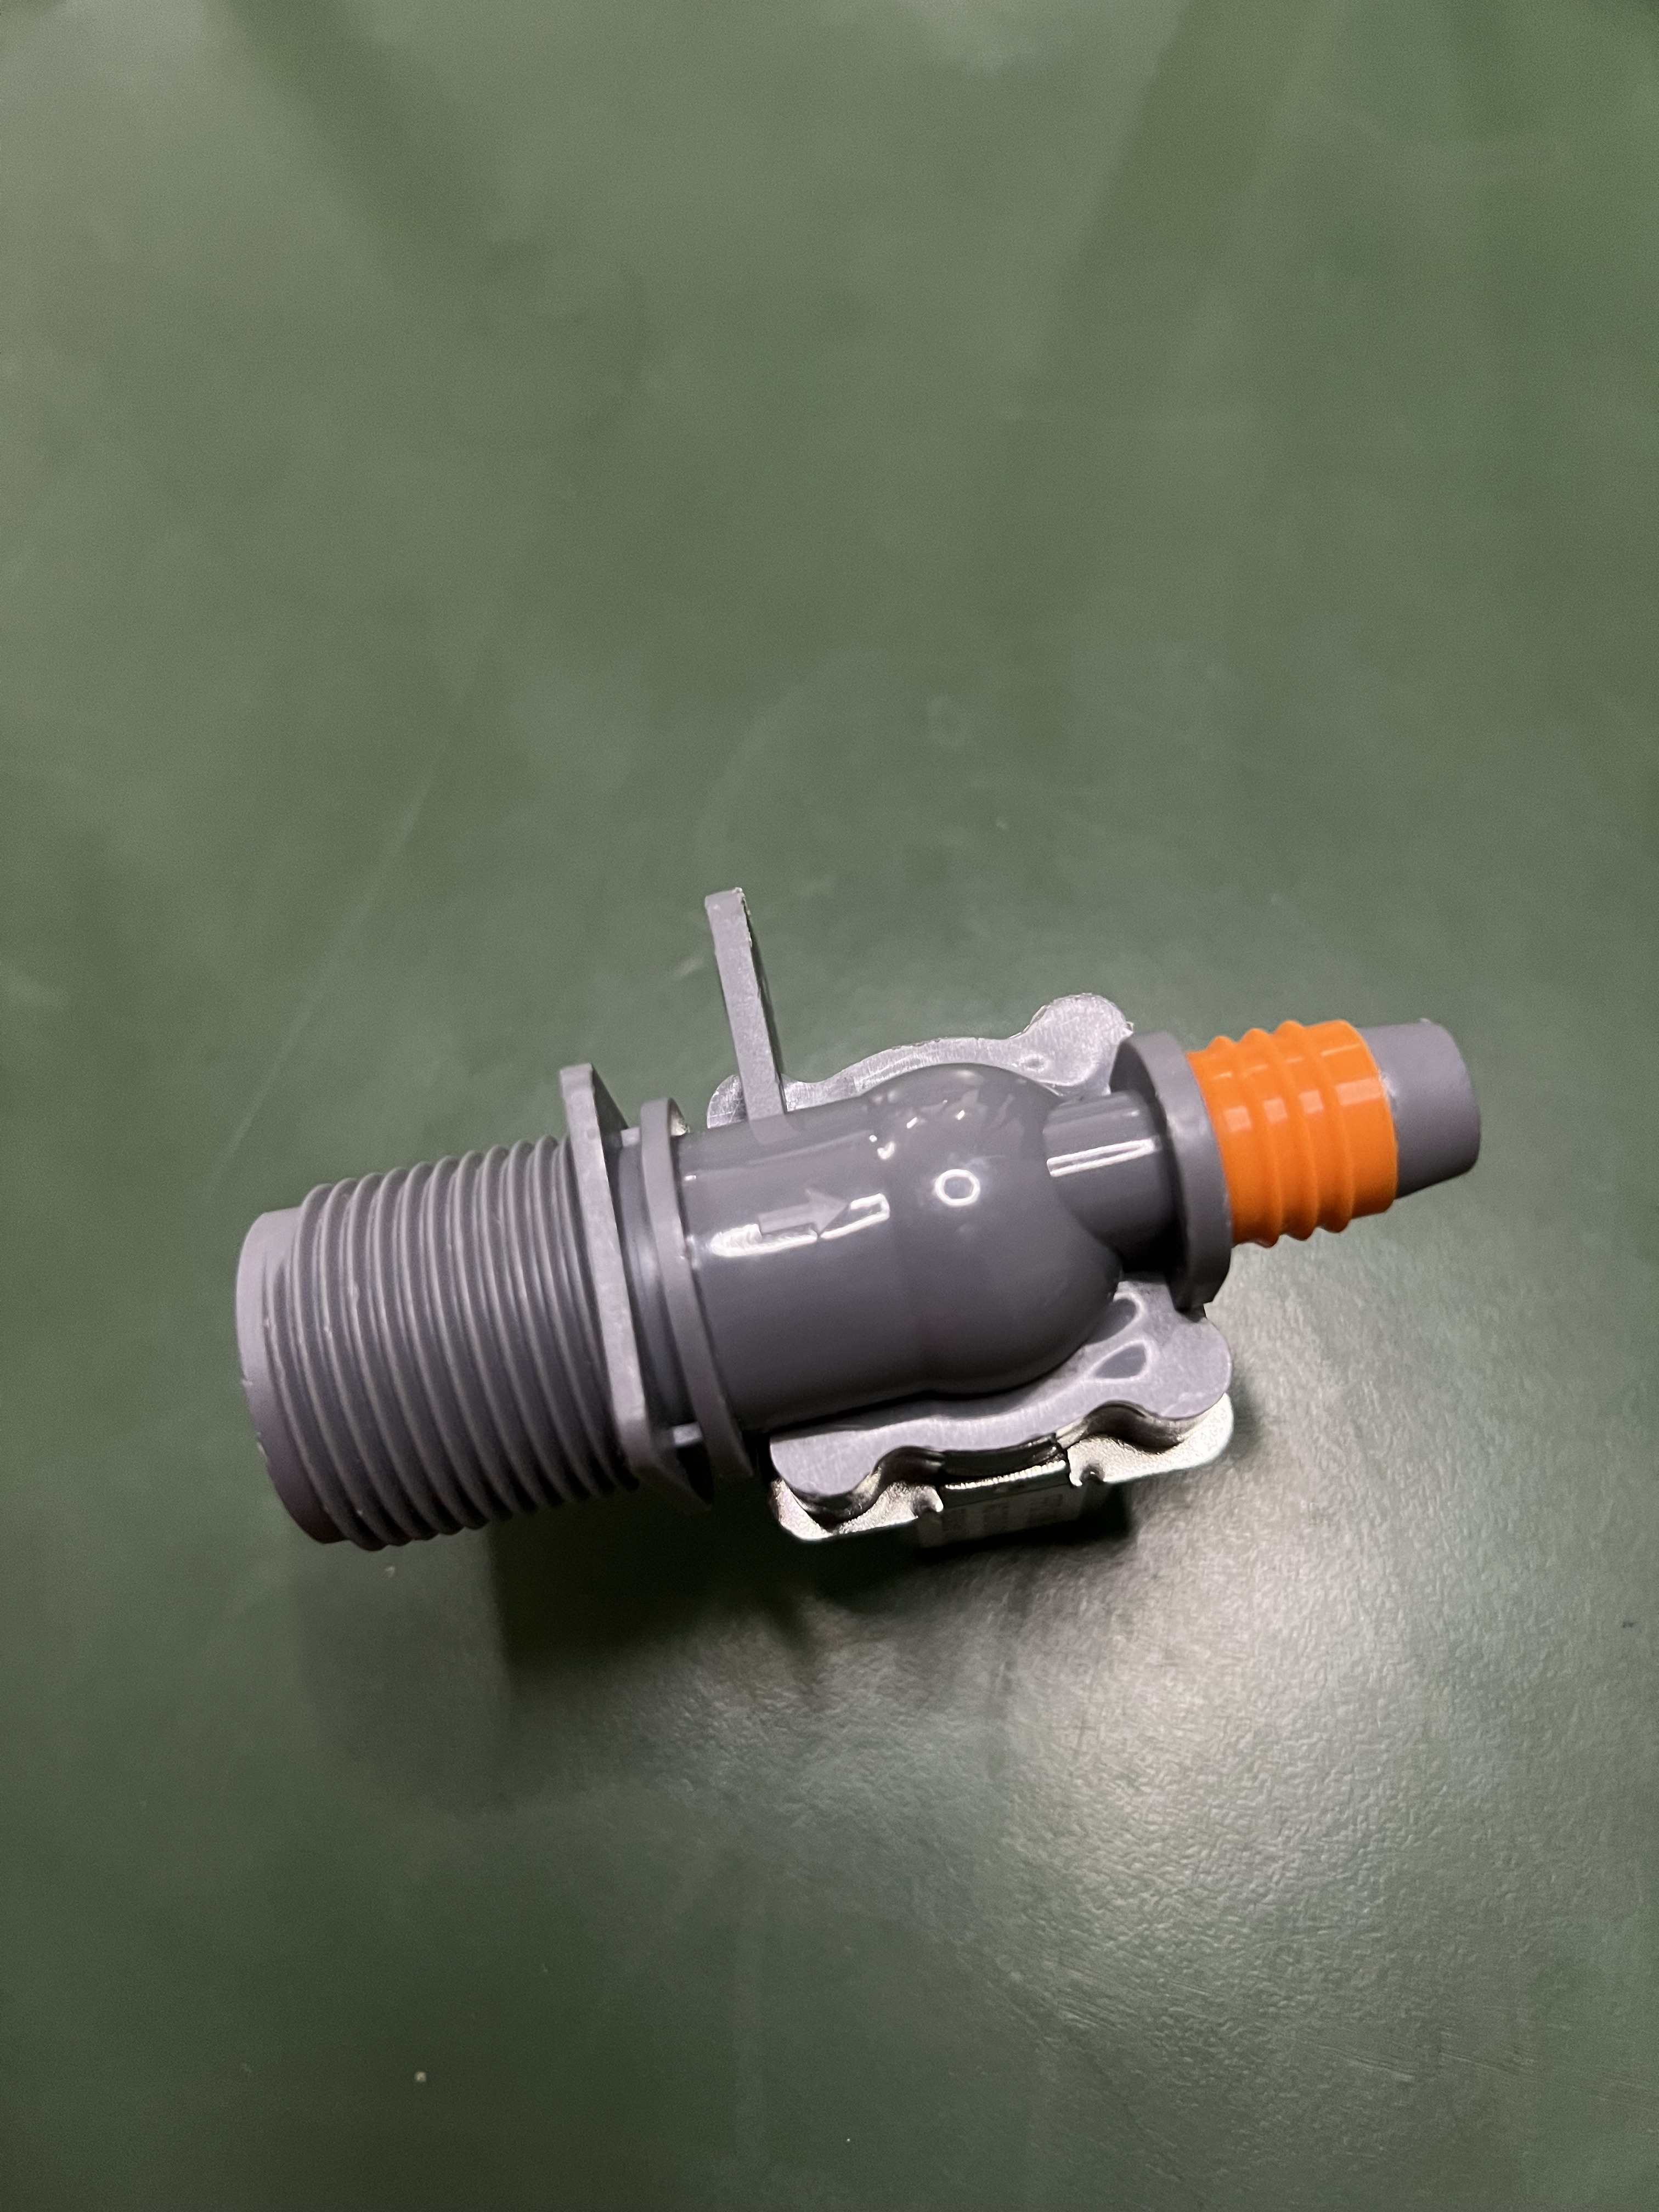inlet_valves: (244, 874, 1530, 1576)
